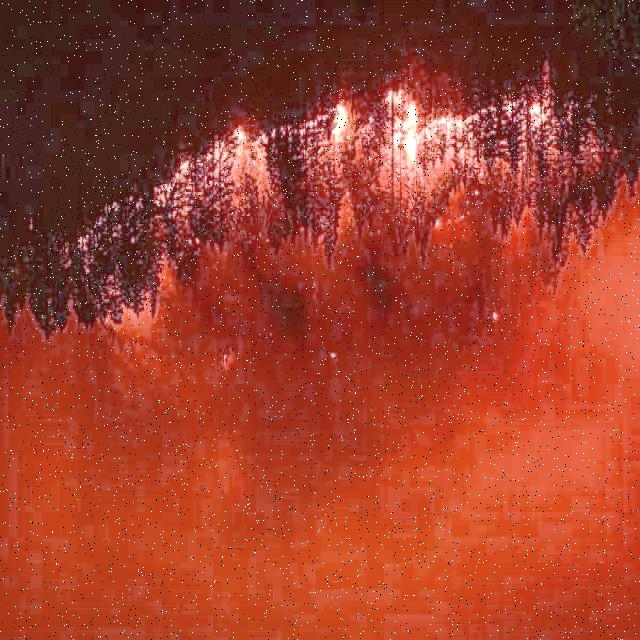api: (386, 88, 426, 159), (330, 100, 364, 151), (524, 94, 551, 146), (223, 112, 249, 163)
asap: (19, 263, 640, 640)
